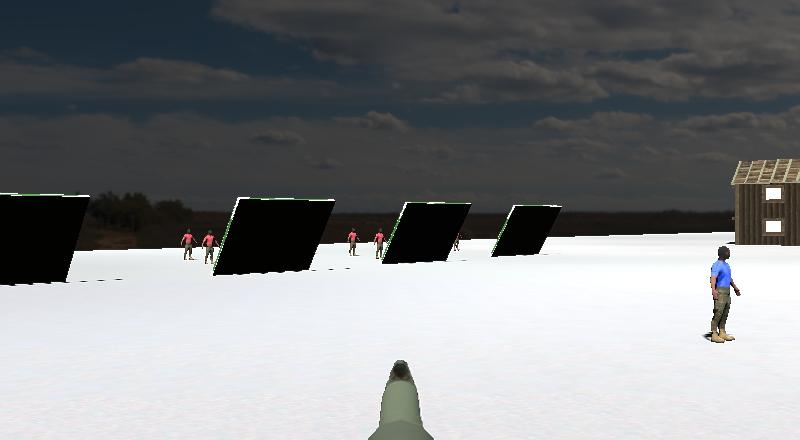House: (721, 146, 800, 262)
Human: (690, 230, 757, 357), (176, 222, 234, 271), (370, 221, 394, 271), (344, 223, 365, 261)
